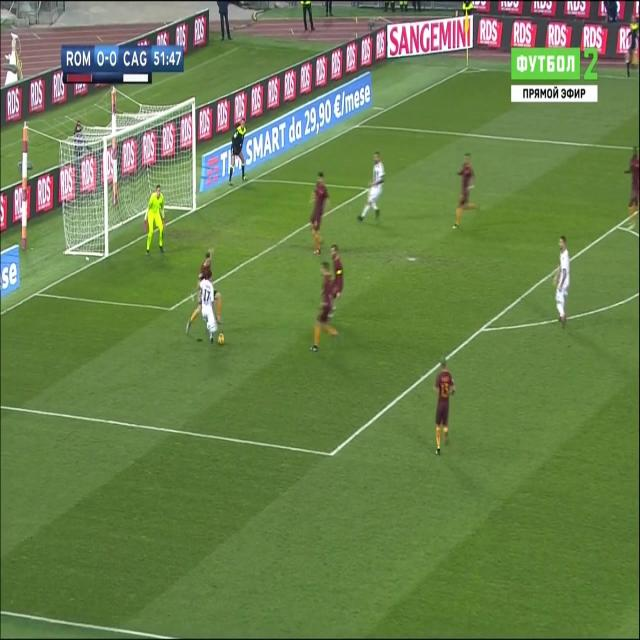Ball: (216, 330, 226, 348)
Goalkeeper: (141, 182, 169, 258)
Player: (432, 354, 458, 464), (450, 152, 480, 234), (309, 260, 333, 362), (358, 147, 388, 228), (307, 169, 332, 255), (553, 233, 571, 329), (196, 272, 218, 344), (623, 141, 640, 227), (328, 241, 346, 315)
Referee: (227, 118, 250, 191)
